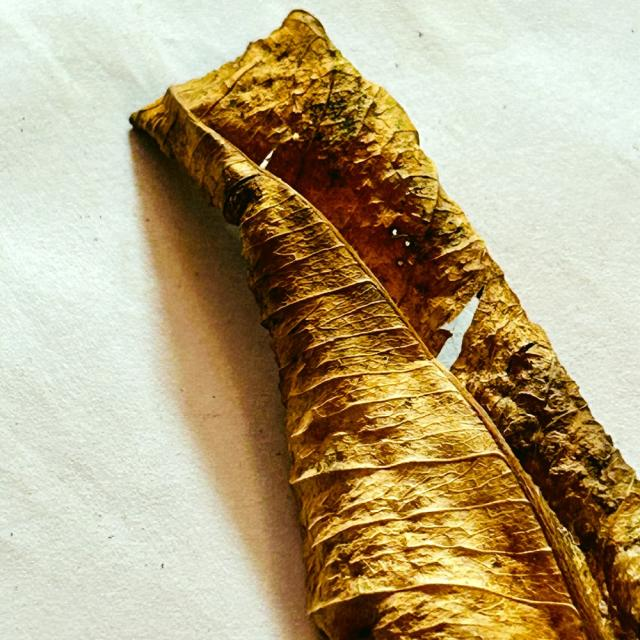DryLeaf_Lemon: (130, 10, 639, 639)
